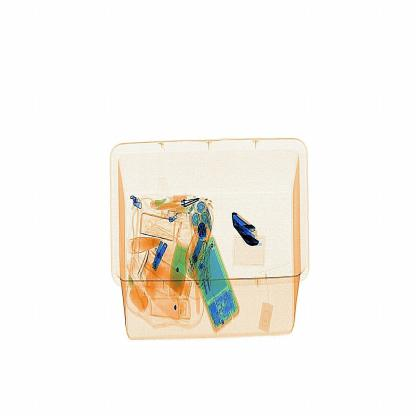pliers: (228, 190, 270, 260)
